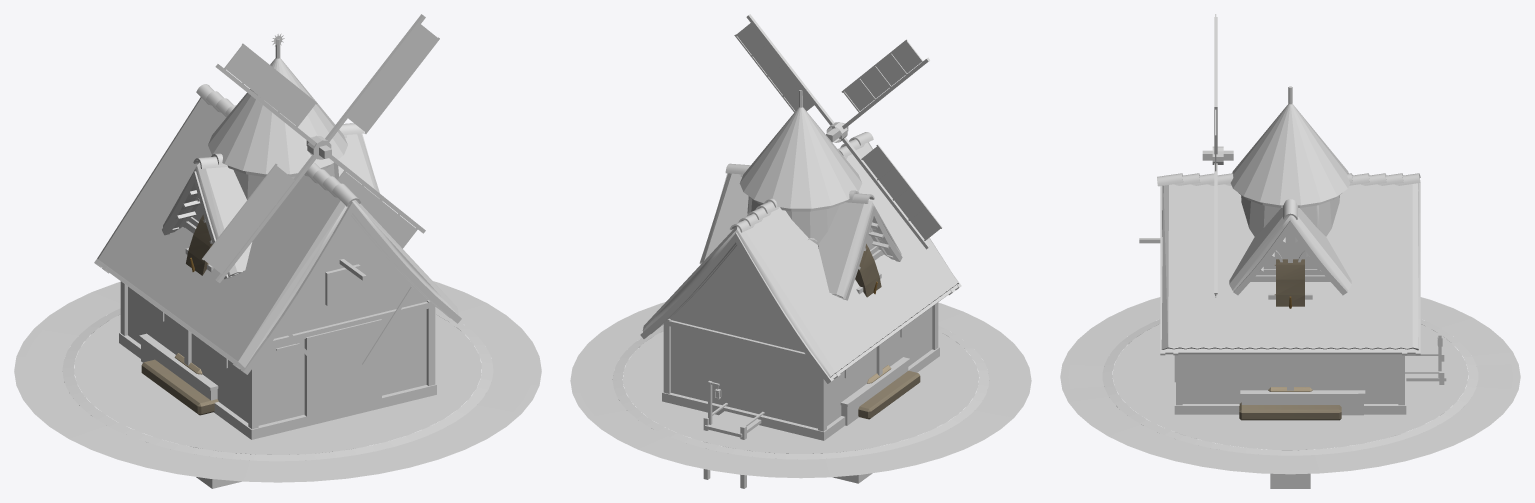
Rendered from arcadia.glb.
3 renders of one model, left to right at view 1: azimuth 30°, elevation 25°; view 2: azimuth 150°, elevation 25°; view 3: azimuth 270°, elevation 25°, orthographic. The views are drawn at different scales.
Parts seen in each view (by area): view 1: a_pad, a_barn, a_barn__L1, a_windmill, a_cottage__L1, a_gate, a_cottage, a_fold; view 2: a_pad, a_barn, a_windmill, a_barn__L1, a_cottage__L1, a_cottage, a_gate, a_jetty, a_fold; view 3: a_pad, a_barn__L1, a_barn, a_windmill, a_cottage, a_gate, a_cottage__L1, a_fold, a_jetty, a_ringgate.
Boxes of the visible parts, box(x1,y1,x2,y2) form: a_pad: box(14, 281, 541, 482); a_barn: box(94, 84, 461, 454); a_barn__L1: box(97, 97, 458, 367); a_windmill: box(202, 14, 439, 282); a_cottage__L1: box(163, 134, 382, 274); a_gate: box(141, 214, 218, 415); a_cottage: box(162, 123, 372, 279); a_fold: box(139, 333, 218, 400); a_pad: box(570, 302, 1031, 478); a_barn: box(640, 132, 961, 453); a_windmill: box(734, 14, 942, 249); a_barn__L1: box(643, 142, 958, 376); a_cottage__L1: box(700, 173, 900, 296); a_cottage: box(699, 163, 902, 300); a_gate: box(855, 244, 920, 419); a_jetty: box(703, 380, 768, 488); a_fold: box(840, 357, 910, 425); a_pad: box(1060, 297, 1520, 474); a_barn__L1: box(1161, 183, 1418, 349); a_barn: box(1139, 173, 1420, 438); a_windmill: box(1202, 14, 1350, 297); a_cottage: box(1232, 199, 1348, 295); a_gate: box(1239, 259, 1341, 420); a_cottage__L1: box(1229, 208, 1351, 290); a_fold: box(1240, 390, 1365, 415); a_jetty: box(1405, 330, 1446, 415); a_ringgate: box(1268, 293, 1312, 488).
Bounding box in the file's own units: 20.7 × 20.28 × 20.7.
